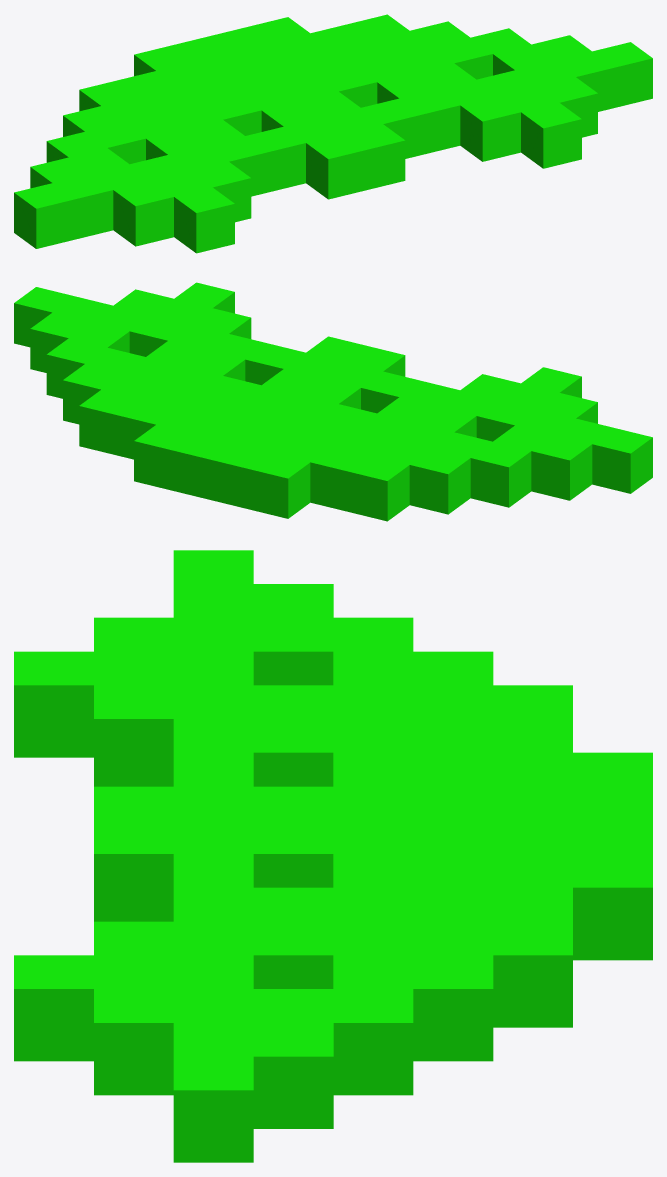
File: SpaceShip.FBX
The picture shows the model from 3 angles, top to bottom: view 1: azimuth 30°, elevation 25°; view 2: azimuth 150°, elevation 25°; view 3: azimuth 270°, elevation 25°; orthographic projection. The views are drawn at different scales.
Parts seen in each view (by area): view 1: Box001; view 2: Box001; view 3: Box001.
Boxes of the visible parts, x1,y1,x2,y2 form: Box001: [14, 14, 652, 253]; Box001: [14, 282, 652, 521]; Box001: [14, 550, 652, 1162].
Bounding box in the file's own units: 160 × 10 × 80.
